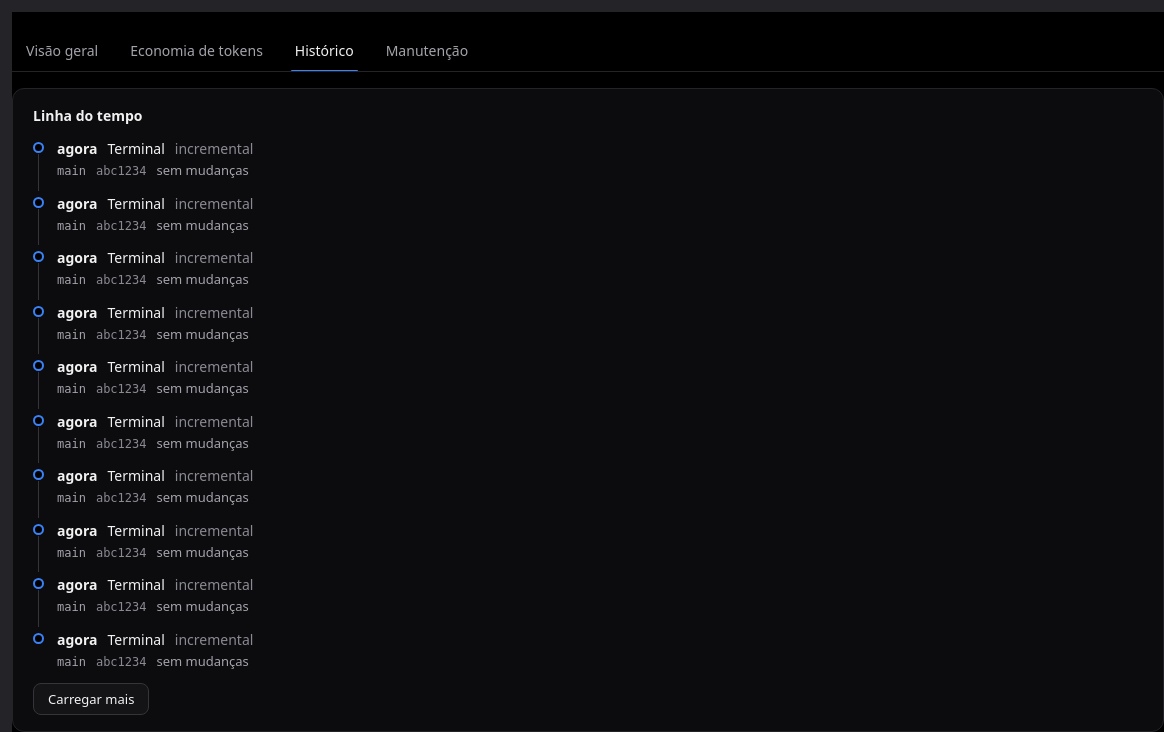
Test: ProjectPage: linha do tempo paginada › falha ao carregar mostra o motivo e mantém o botão
Click the button "Carregar mais" at (91, 699), box [33, 683, 149, 715]
(page scrolled)
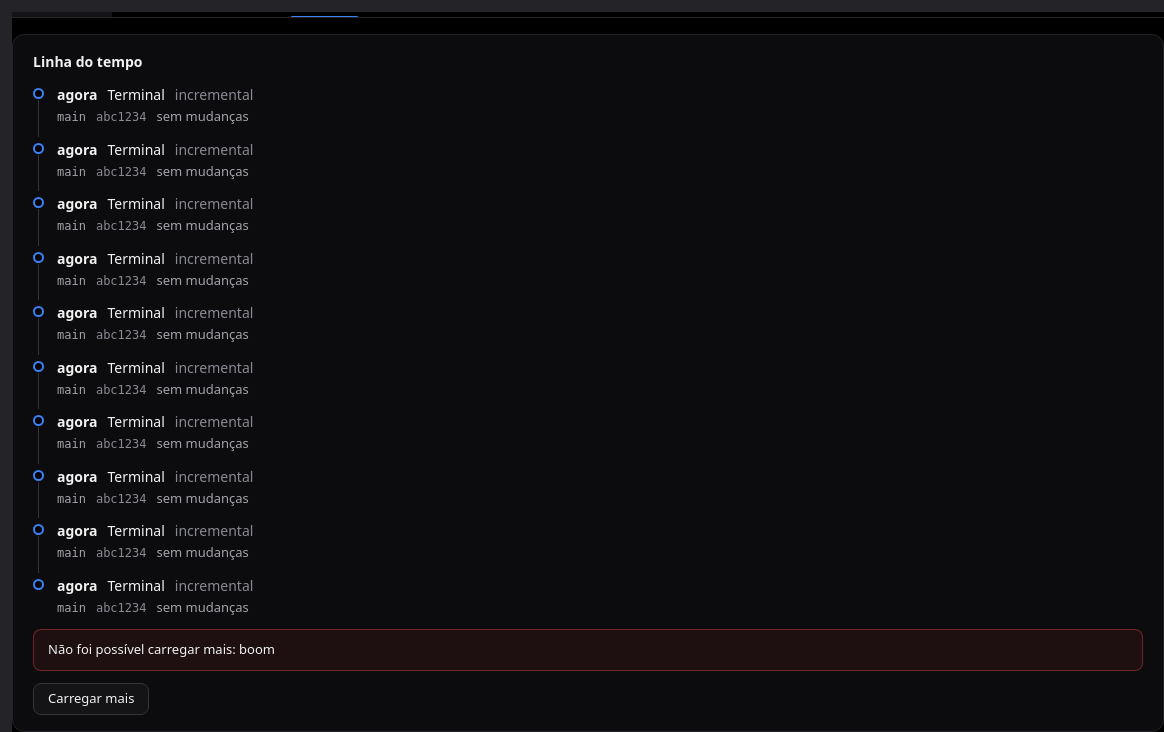
Now the text "Não foi possível carregar mais: boom" is shown, box [33, 629, 1143, 671]
